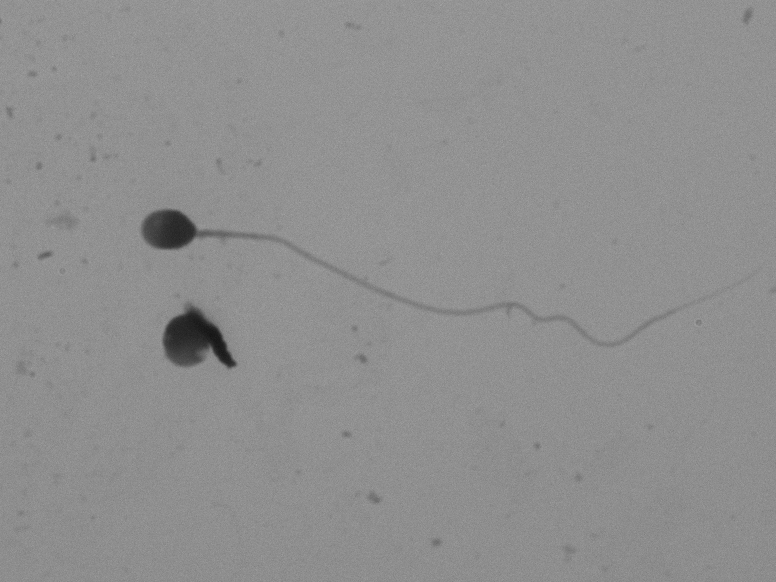Normal: (129, 173, 704, 322)
